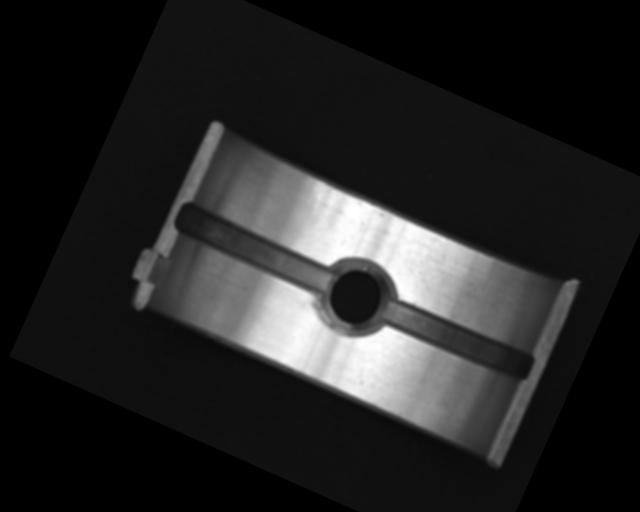gap: (170, 196, 338, 300), (378, 292, 537, 385)
hole: (304, 243, 408, 351)
